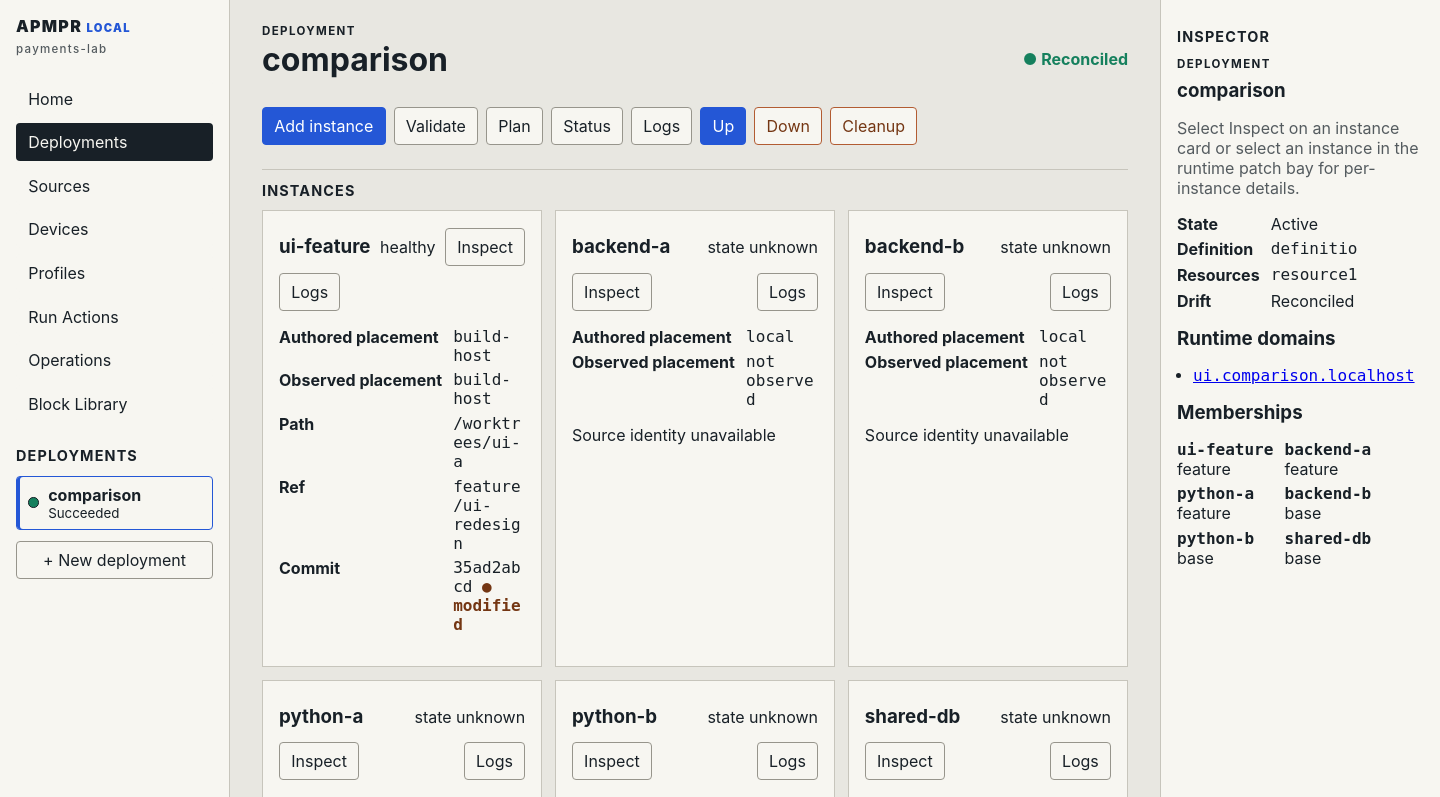
APM ProjectRunner GUI › filters the durable timeline by free text across fields and captured output
This screenshot has width=1440, height=797.
Click the button "operations". click: (114, 360)
box: 16,341 -> 213,379
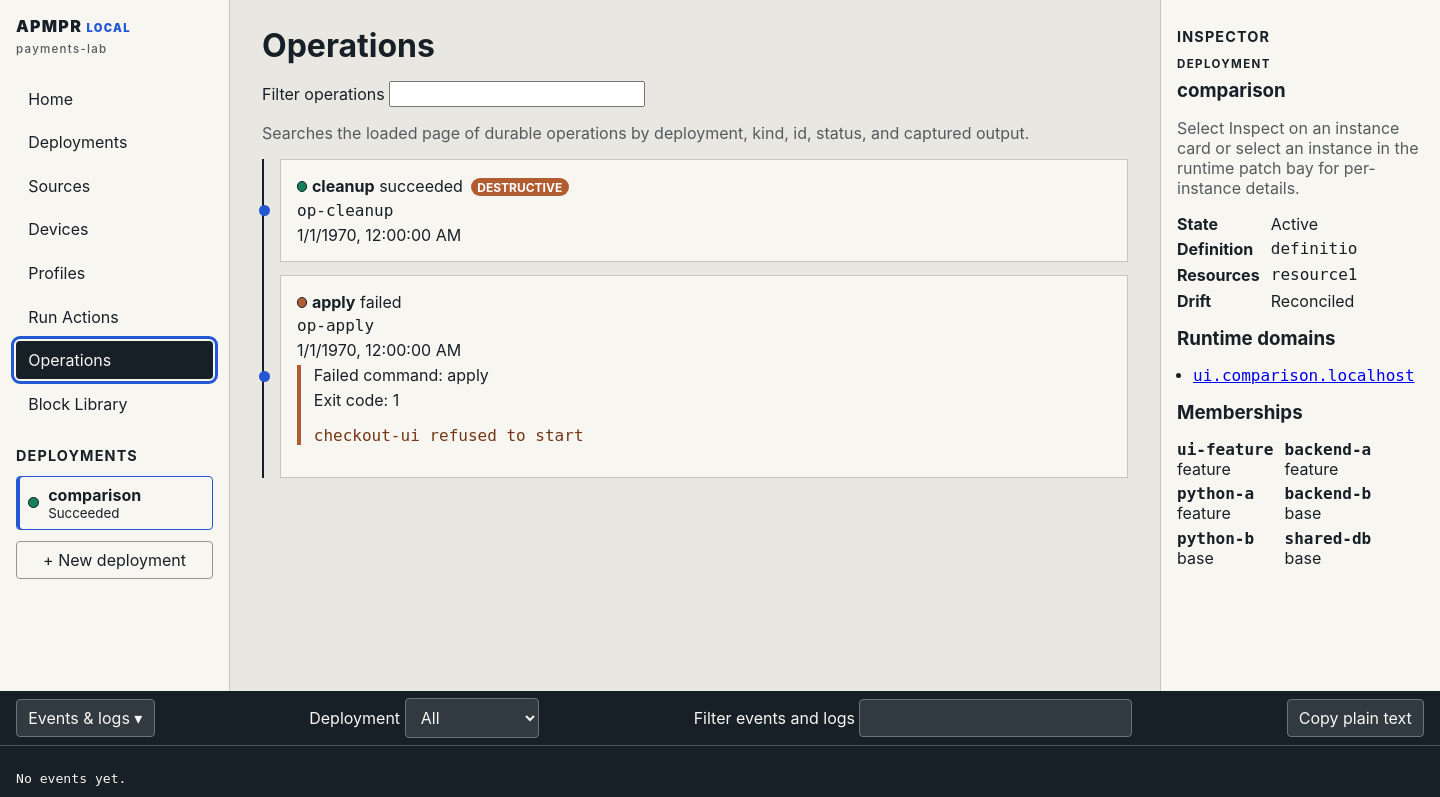
Result: the text "op-cleanup" is shown at 297,201 -> 393,220
Type "STAGING" into the field labelled "Filter operations". click: (517, 94)
box: 389,81 -> 645,107
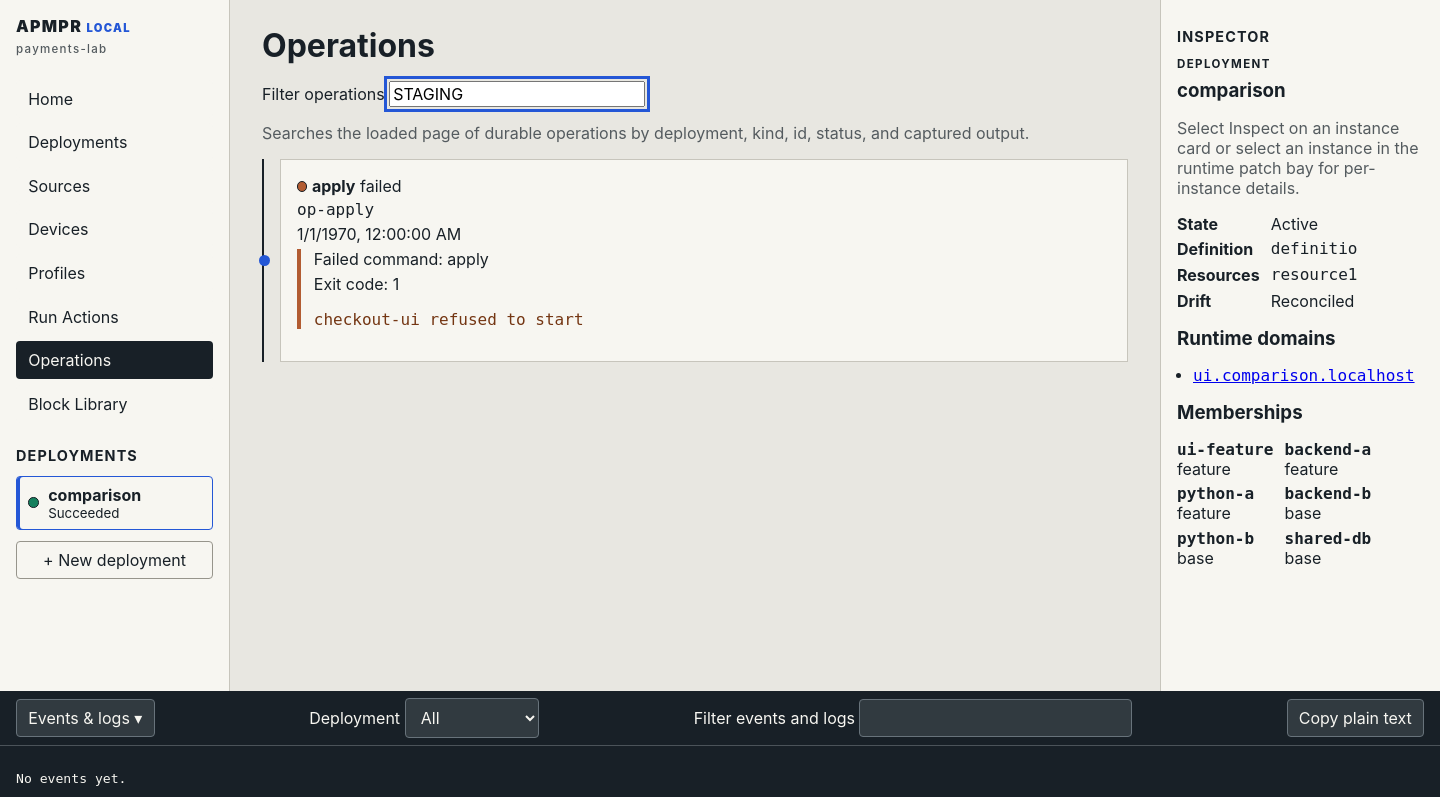
Result: the text "op-apply" is shown at 297,200 -> 374,219
Result: the text "op-cleanup" is gone
Replace the text in the field labelled "Filter operations" with "checkout-ui refused". click: (517, 94)
box: 389,81 -> 645,107
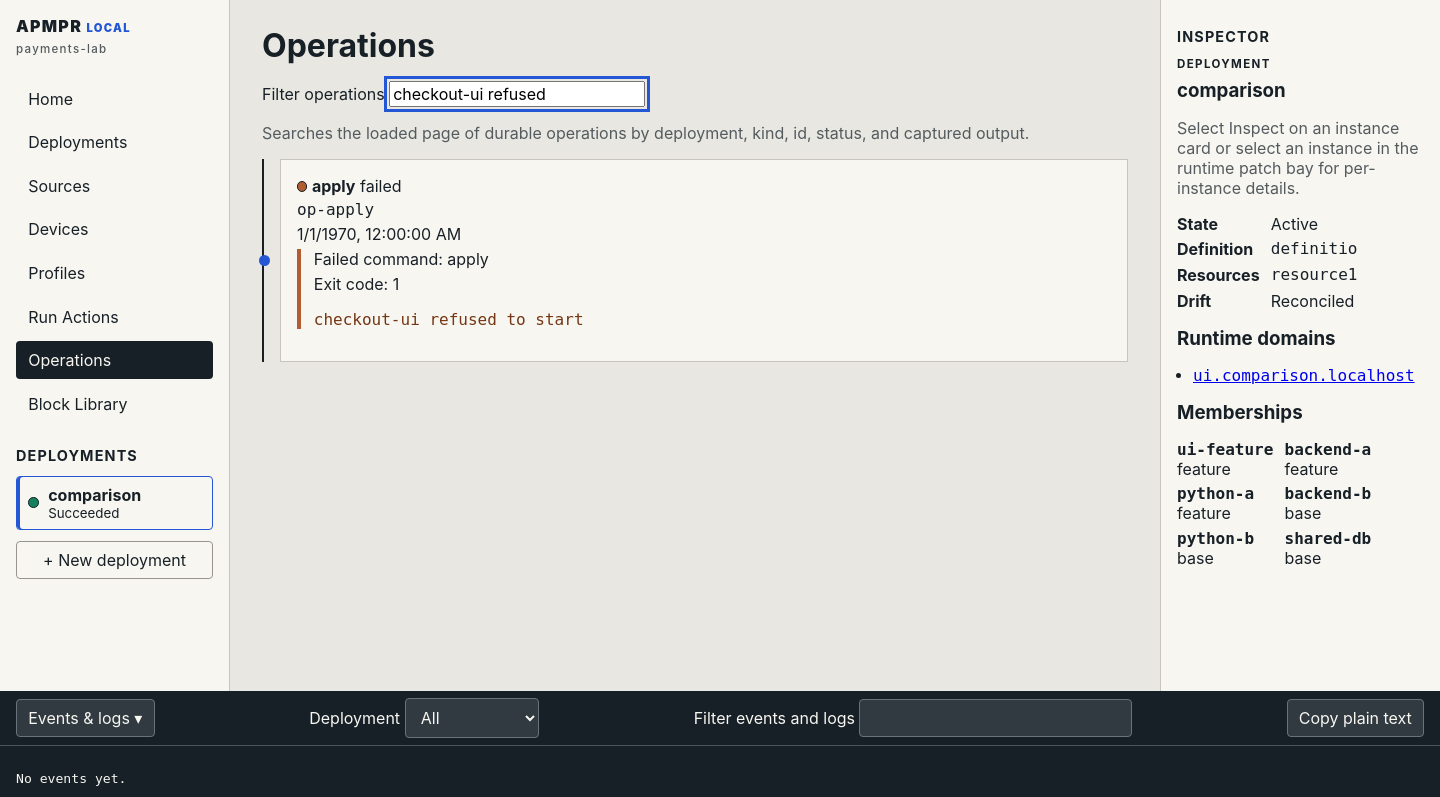
Expected: the text "op-cleanup" is not shown
Result: the text "op-apply" is shown at 297,200 -> 374,219
Replace the text in the field labelled "Filter operations" with "nothing-matches-this". click: (517, 94)
box: 389,81 -> 645,107
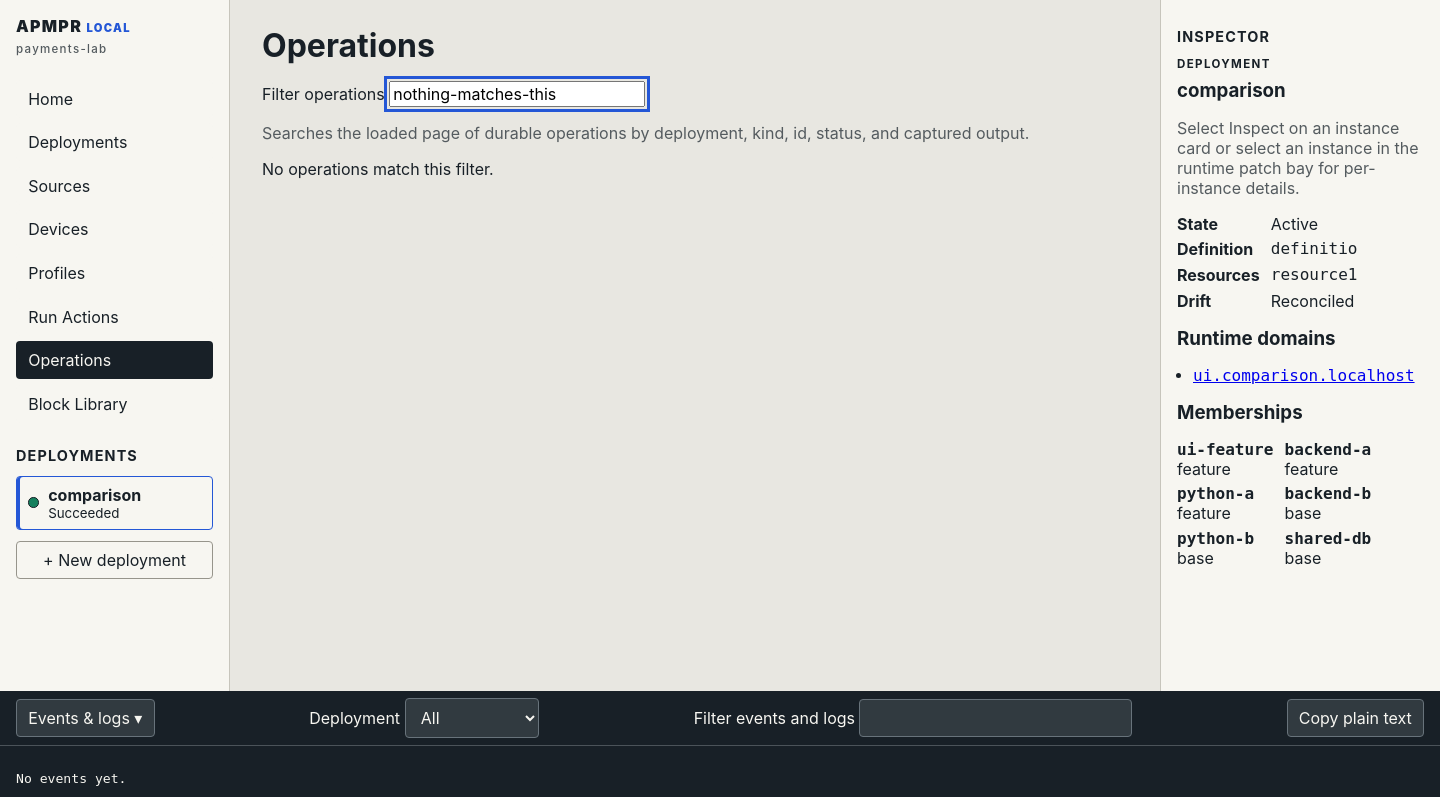
Result: the text "No operations match this filter." is shown at 262,159 -> 494,179
